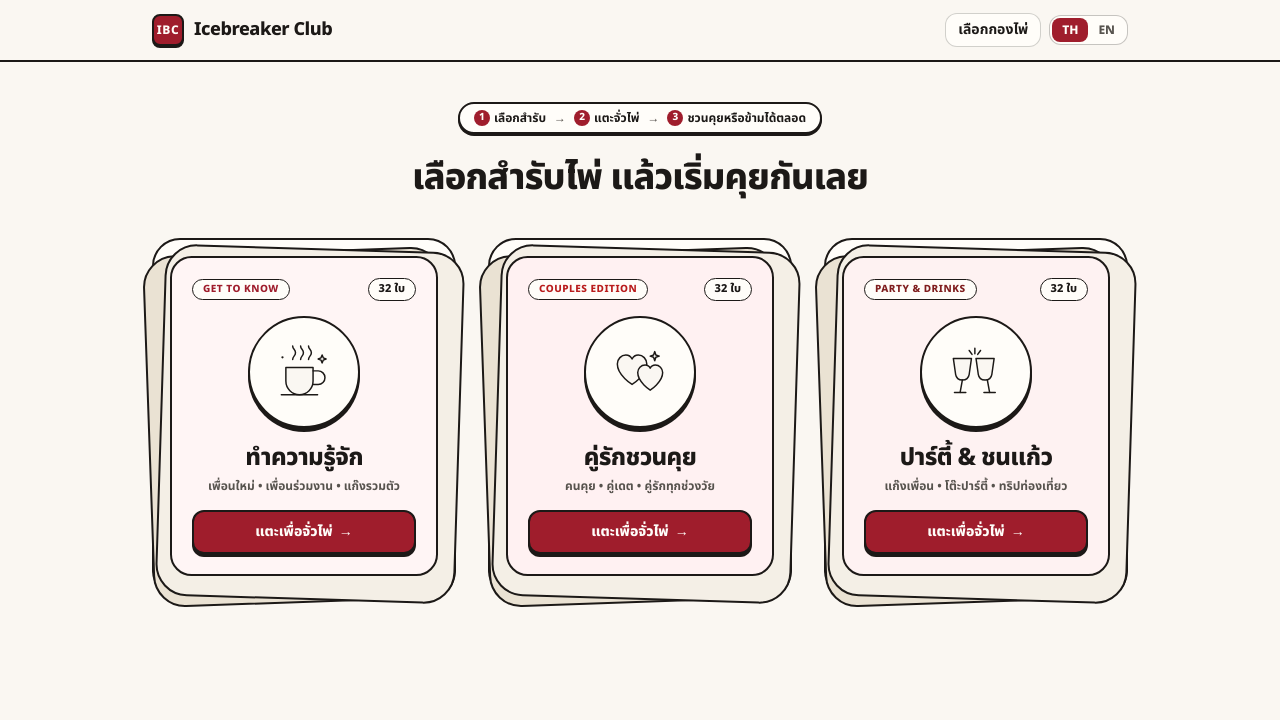
Test: User Flow, Bilingual i18n & Story Share Integration Tests › switches language between Thai (TH) and English (EN) dynamically across UI and decks
Expected: the heading "เลือกสำรับไพ่ แล้วเริ่มคุยกันเลย" is shown, [412,151,868,205]
Expected: the element named "เลือกกองไพ่" is shown, [152,238,1128,610]
Click EN button in LanguageSwitcher
Click the button "EN" at [1107, 30], box [1088,18,1125,42]
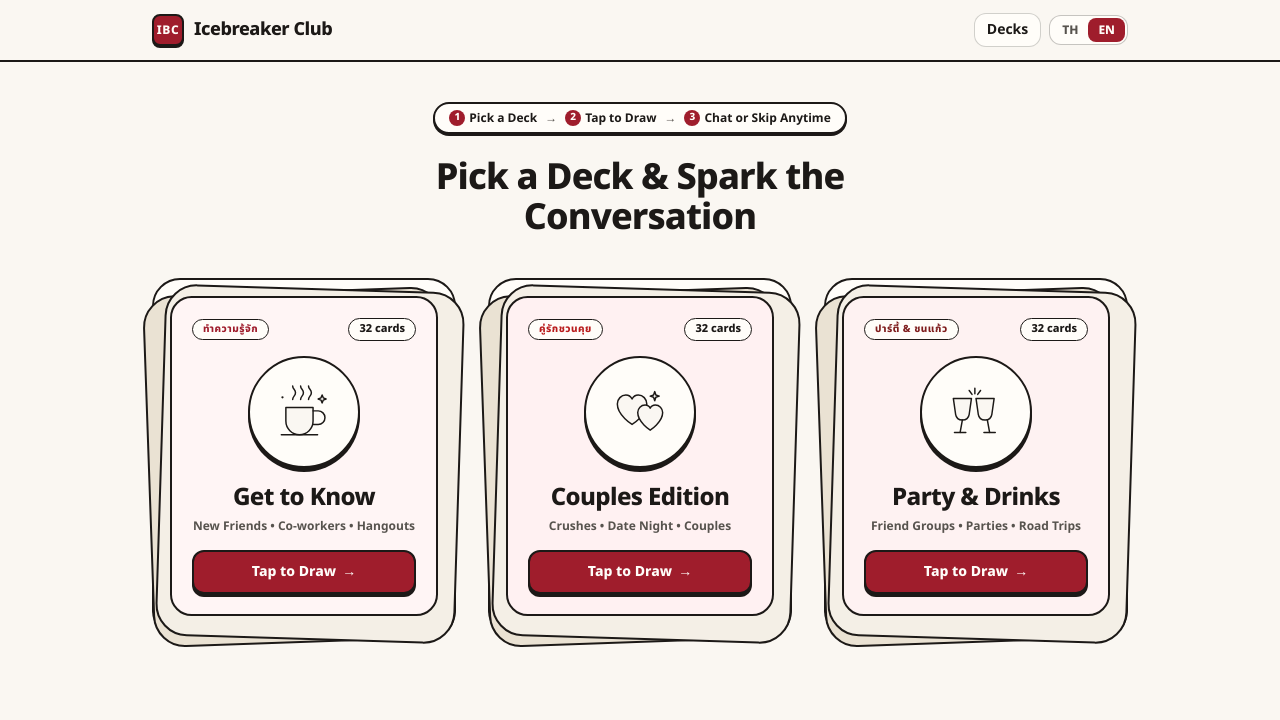
Now the heading "Pick a Deck & Spark the Conversation" is shown, box [436,151,844,245]
Now the element named "Choose a card deck" is shown, box [152,278,1128,650]
Now the heading "Get to Know" is shown, box [233,480,375,516]
